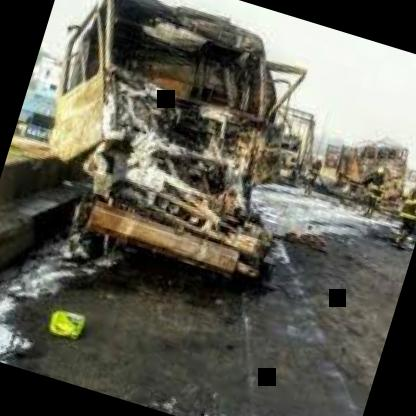accident: (4, 0, 348, 318), (309, 117, 416, 232)
